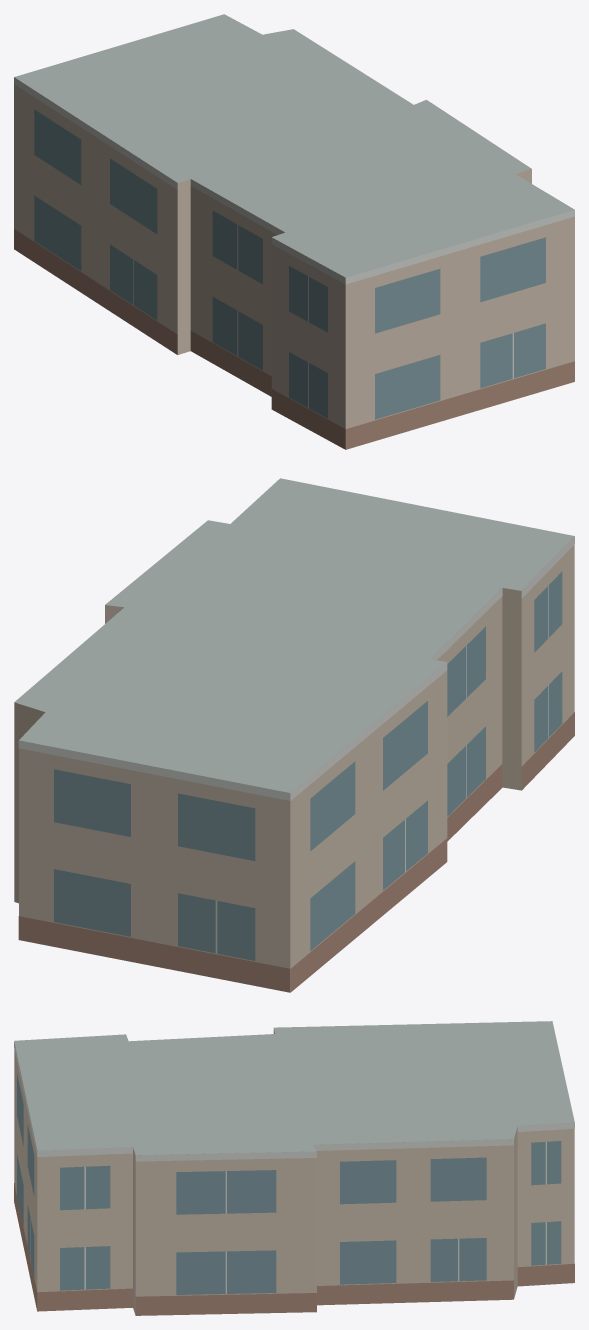
File: survey-upis-32674587.glb
The picture shows the model from 3 angles, top to bottom: view 1: azimuth 30°, elevation 25°; view 2: azimuth 150°, elevation 25°; view 3: azimuth 270°, elevation 25°; orthographic projection. The views are drawn at different scales.
Parts seen in each view (by area): view 1: survey-upis-32674587.tmp; view 2: survey-upis-32674587.tmp; view 3: survey-upis-32674587.tmp.
Part boxes in pixels (x1,y1,x2,y2): survey-upis-32674587.tmp: (14,14,574,449); survey-upis-32674587.tmp: (14,478,574,992); survey-upis-32674587.tmp: (14,1021,574,1315).
Size of the model in its own units: 10.93 by 6.1 by 19.3.
